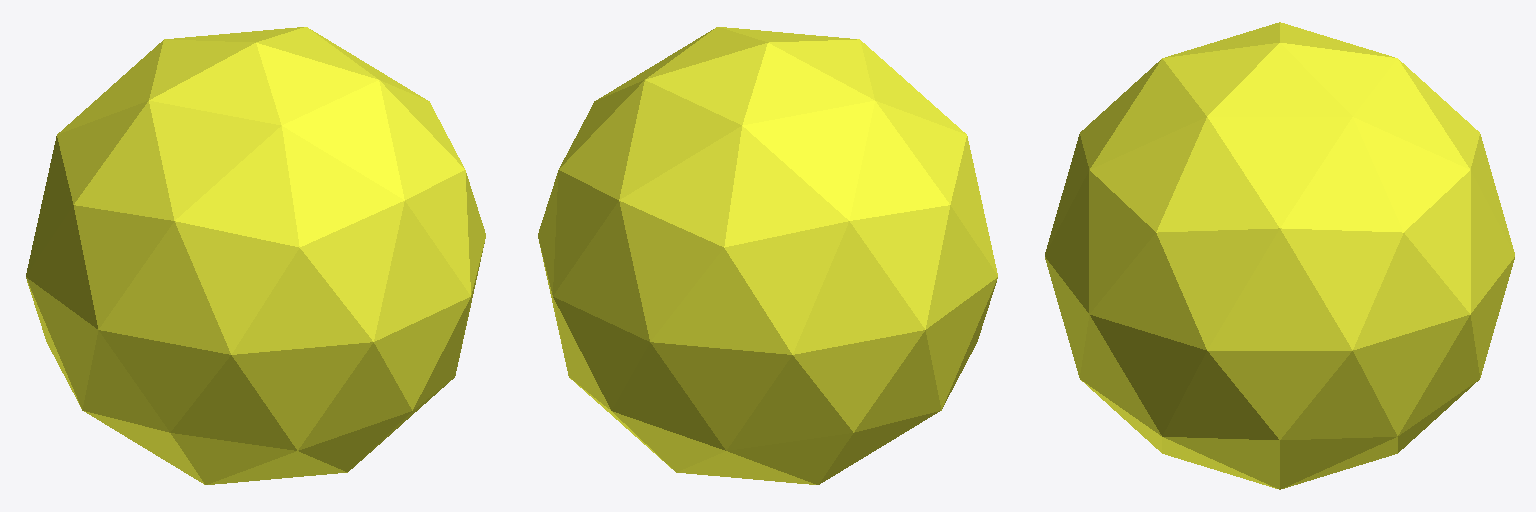
The picture shows the model from 3 angles: view 1: azimuth 30°, elevation 25°; view 2: azimuth 150°, elevation 25°; view 3: azimuth 270°, elevation 25°; orthographic projection.
Visible parts, largest first — view 1: ICO球; view 2: ICO球; view 3: ICO球.
Boxes of the visible parts, <box> form: ICO球: <box>26,27,485,484</box>; ICO球: <box>538,27,997,484</box>; ICO球: <box>1045,22,1514,489</box>.
Size of the model in its own units: 1.9 by 2 by 2.
1 materials, 1 textured.